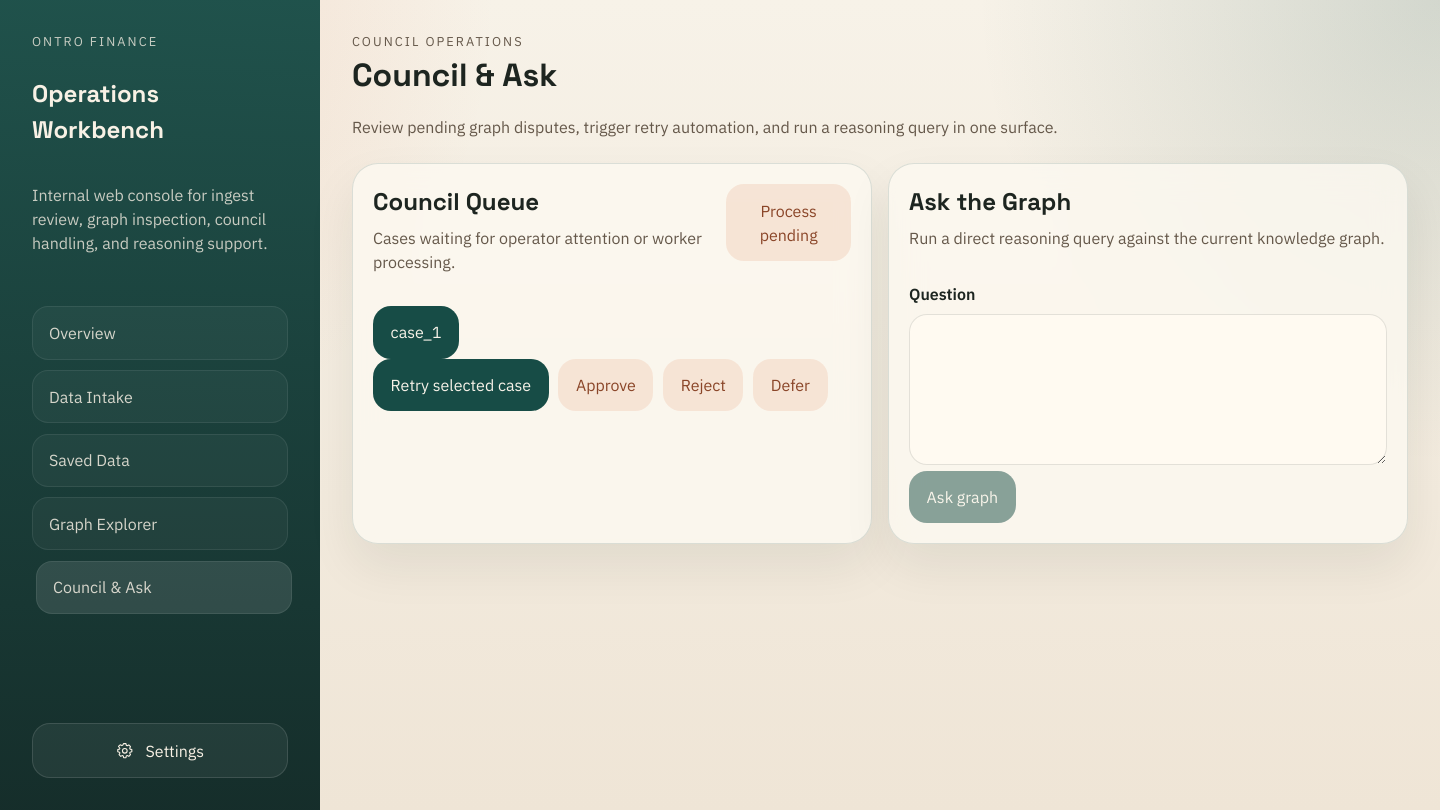
Test case: Council and ask › allows manual council decision from the console
Expected: the button "case_1" is shown, [373,306,459,359]
What coordinates should you click on to do the following:
click the button "Approve"
I would click on:
 (606, 385)
Its box is [558,359,654,411].
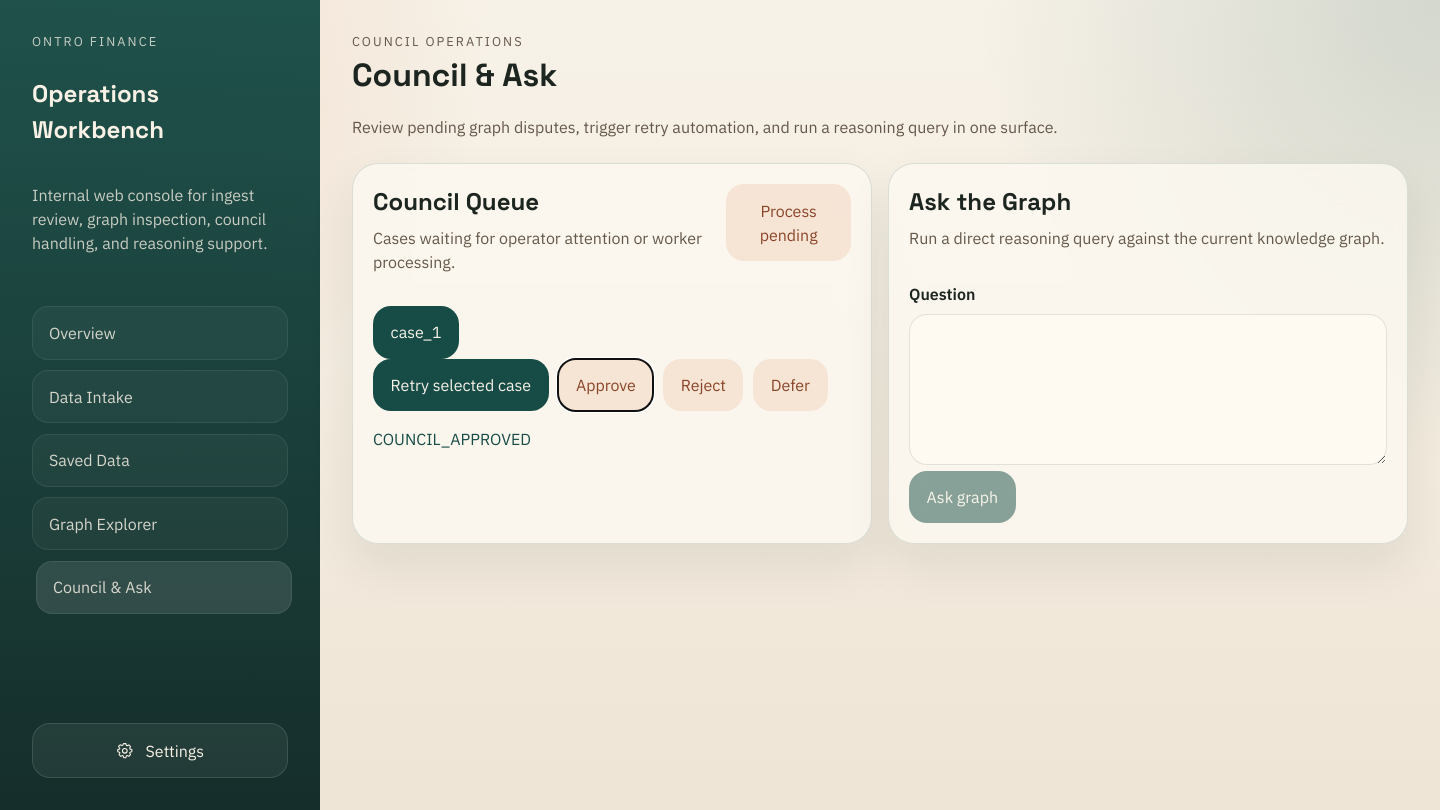
Expected: the text "COUNCIL_APPROVED" is shown, [373,429,531,449]
